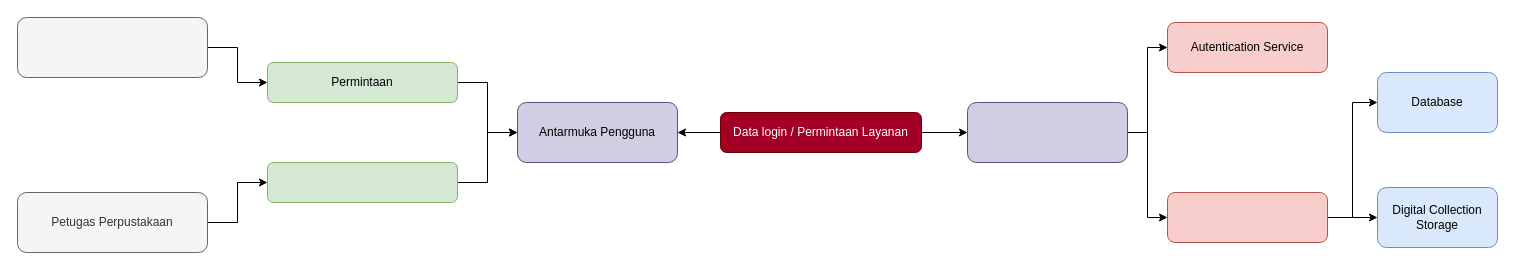
Image size: 1515x270. Some labels were removed from this diagram. Each missing label, with the centre of its shape:
Application Service: (x=1047, y=132)
Library Service: (x=1247, y=217)
Mahasiswa / Dosen: (x=112, y=47)
Pengelolaan Data: (x=362, y=182)
